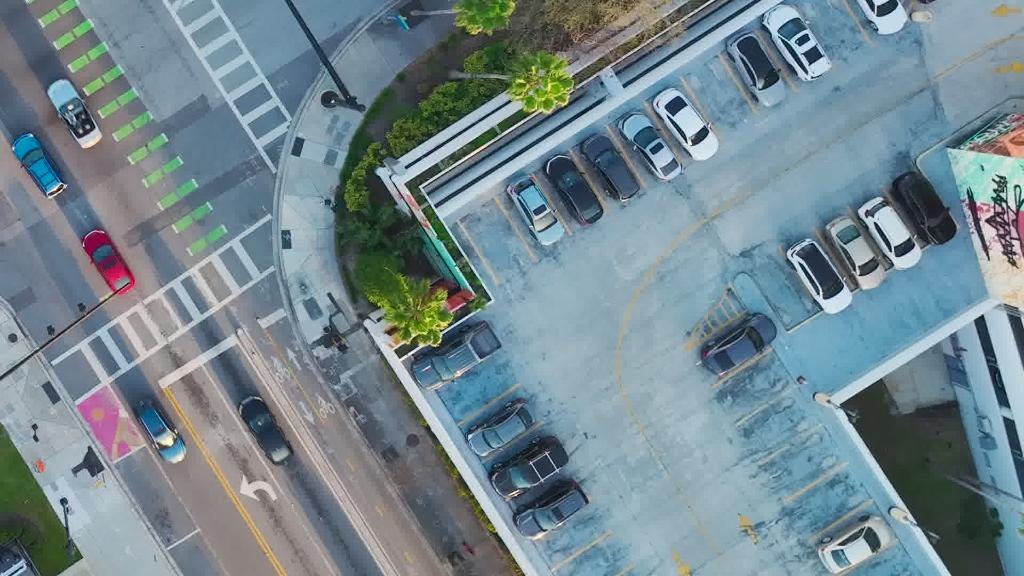cars: (410, 318, 502, 392), (761, 4, 831, 80), (488, 436, 570, 500), (785, 237, 853, 313), (512, 475, 590, 540), (891, 170, 957, 246), (701, 311, 777, 376), (653, 87, 719, 161), (857, 194, 921, 270), (824, 214, 886, 290), (542, 152, 604, 226), (816, 514, 892, 574), (726, 29, 784, 107), (618, 111, 682, 181), (506, 172, 564, 246), (236, 394, 294, 466), (465, 398, 537, 456), (48, 76, 102, 150), (10, 132, 68, 200), (582, 134, 640, 202), (80, 228, 136, 296), (132, 397, 186, 465), (840, 0, 908, 34), (880, 0, 949, 3)
